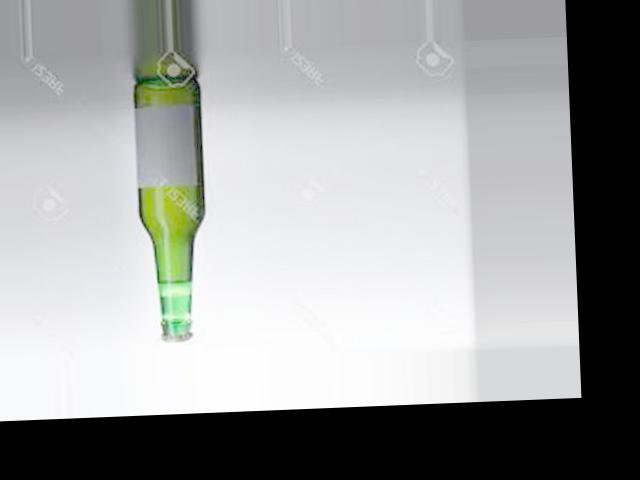beer: (132, 76, 211, 343)
